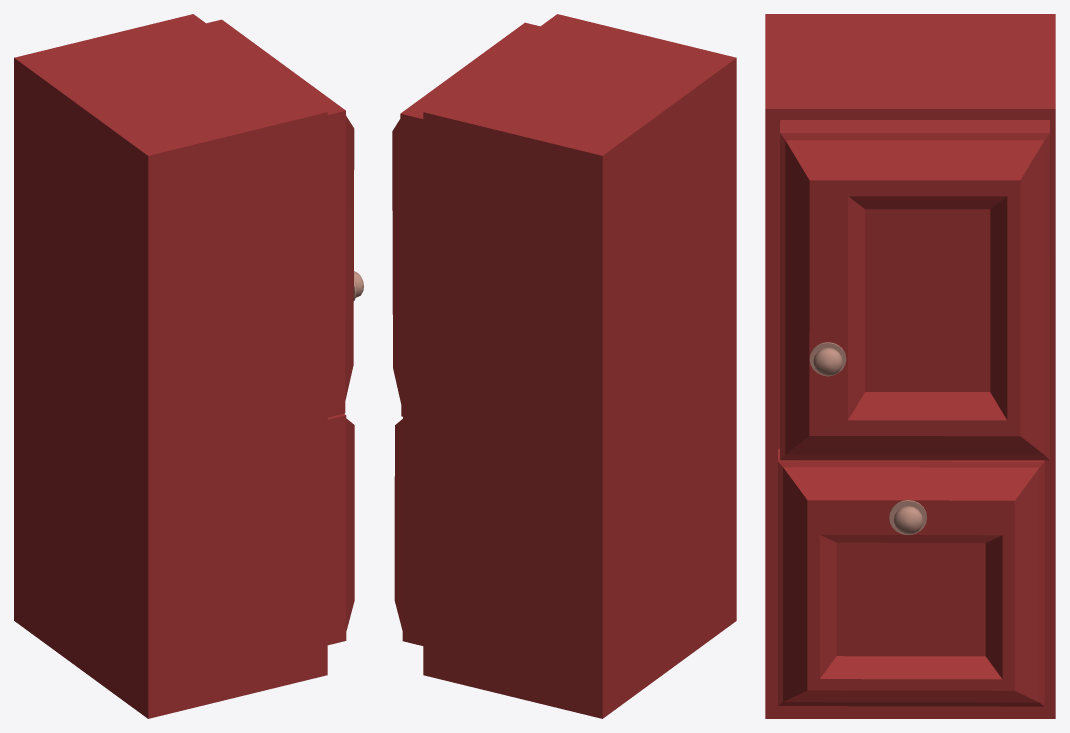
The model's file is Closet_onedoor_sketch_fbx.fbx.
3 renders of one model, left to right at view 1: azimuth 30°, elevation 25°; view 2: azimuth 150°, elevation 25°; view 3: azimuth 270°, elevation 25°, orthographic. The views are drawn at different scales.
Visible parts, largest first — view 1: polySurface2, polySurface3, polySurface1, pasted__pCube6, pasted__pCube5; view 2: polySurface2, polySurface3, polySurface1, pasted__pCube6, pasted__pCube5; view 3: pasted__pCube6, pasted__pCube5, polySurface3, polySurface1, polySurface2, polySurface4, pasted__pSphere2, pasted__pSphere1.
Part boxes in pixels (x1,y1,x2,y2): polySurface2: (14,139,327,717); polySurface3: (14,14,327,717); polySurface1: (14,254,327,718); pasted__pCube6: (206,19,354,417); pasted__pCube5: (327,414,354,645); polySurface2: (423,139,736,717); polySurface3: (423,14,736,717); polySurface1: (423,254,736,718); pasted__pCube6: (392,22,539,421); pasted__pCube5: (394,417,423,645); pasted__pCube6: (780,120,1049,460); pasted__pCube5: (778,448,1044,706); polySurface3: (765,14,1055,716); polySurface1: (765,320,1055,718); polySurface2: (765,196,1055,716); polySurface4: (765,321,1041,718); pasted__pSphere2: (893,506,923,534); pasted__pSphere1: (813,347,842,376).
Bounding box in the file's own units: 135 × 300 × 130.
